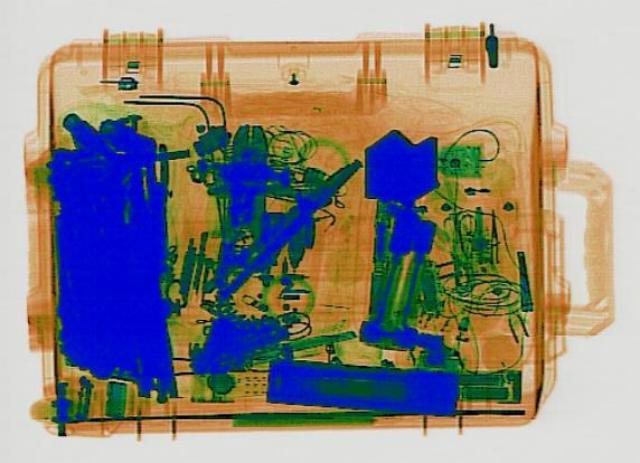Pliers: (198, 154, 366, 299), (225, 123, 268, 284)
